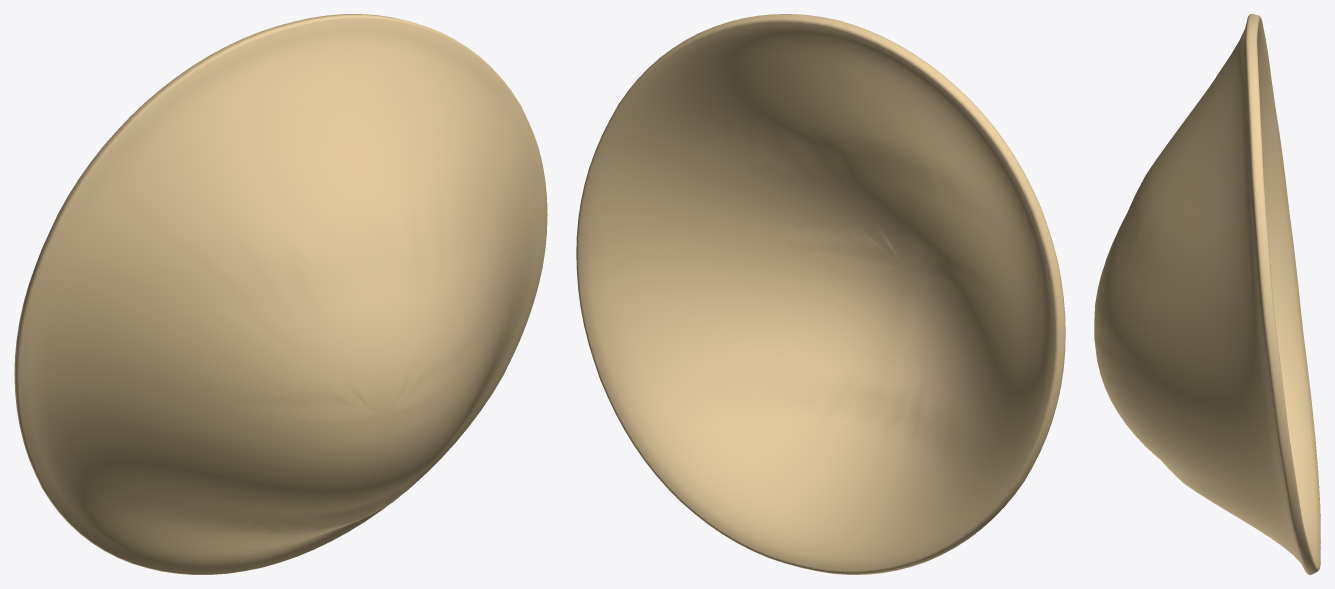
The model's file is Masculine-nose-rounded.glb.
3 renders of one model, left to right at view 1: azimuth 30°, elevation 25°; view 2: azimuth 150°, elevation 25°; view 3: azimuth 270°, elevation 25°, orthographic. The views are drawn at different scales.
Visible parts, largest first — view 1: Face / rounded nose; view 2: Face / rounded nose; view 3: Face / rounded nose.
Boxes of the visible parts, x1,y1,x2,y2 form: Face / rounded nose: (14,14,547,574); Face / rounded nose: (576,14,1065,574); Face / rounded nose: (1094,14,1320,574).
Size of the model in its own units: 0.068 by 0.07 by 0.0281.
